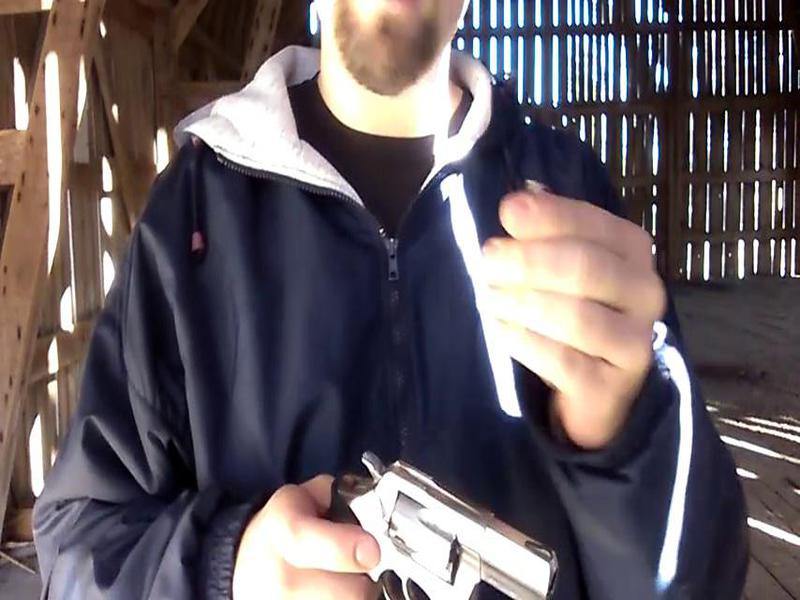Revolver: (255, 413, 544, 600)
